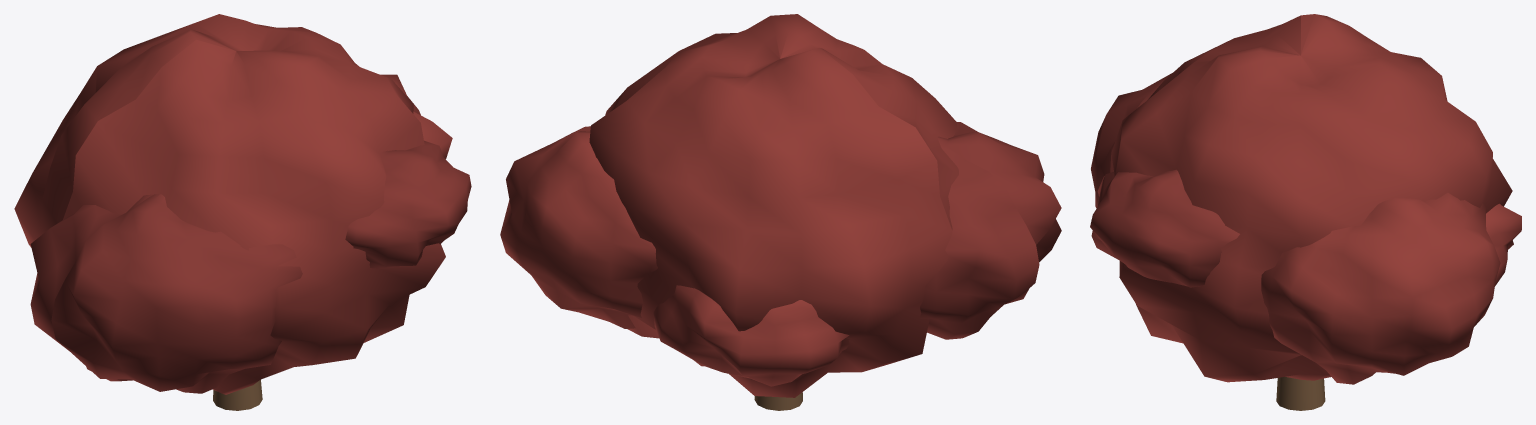
File: diszalma-royalty-fa-osz.glb
The picture shows the model from 3 angles, left to right: view 1: azimuth 30°, elevation 25°; view 2: azimuth 150°, elevation 25°; view 3: azimuth 270°, elevation 25°; orthographic projection. The views are drawn at different scales.
Visible parts, largest first — view 1: korona-1, korona-2, korona-6, torzs, korona-3; view 2: korona-1, korona-3, korona-2, korona-5, torzs; view 3: korona-1, korona-3, korona-6, korona-2, korona-5, torzs.
Boxes of the visible parts, x1,y1,x2,y2 form: korona-1: (14,14,445,394); korona-2: (30,194,302,393); korona-6: (345,140,471,268); torzs: (213,379,262,410); korona-3: (355,63,452,158); korona-1: (589,14,958,397); korona-3: (500,126,657,328); korona-2: (919,122,1061,339); korona-5: (653,285,849,386); torzs: (754,392,802,410); korona-1: (1097,14,1512,382); korona-3: (1261,192,1500,384); korona-6: (1090,169,1239,287); korona-2: (1091,73,1172,208); korona-5: (1486,203,1521,285); torzs: (1276,377,1325,410).
Bounding box in the file's own units: 8.44 × 6.68 × 7.1.
